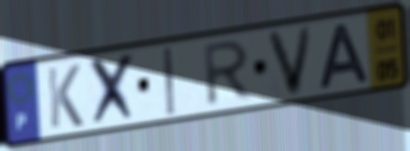A: (317, 21, 372, 92)
I: (161, 45, 178, 118)
K: (45, 62, 86, 131)
R: (203, 37, 256, 110)
V: (264, 23, 316, 100)
X: (87, 50, 140, 130)
